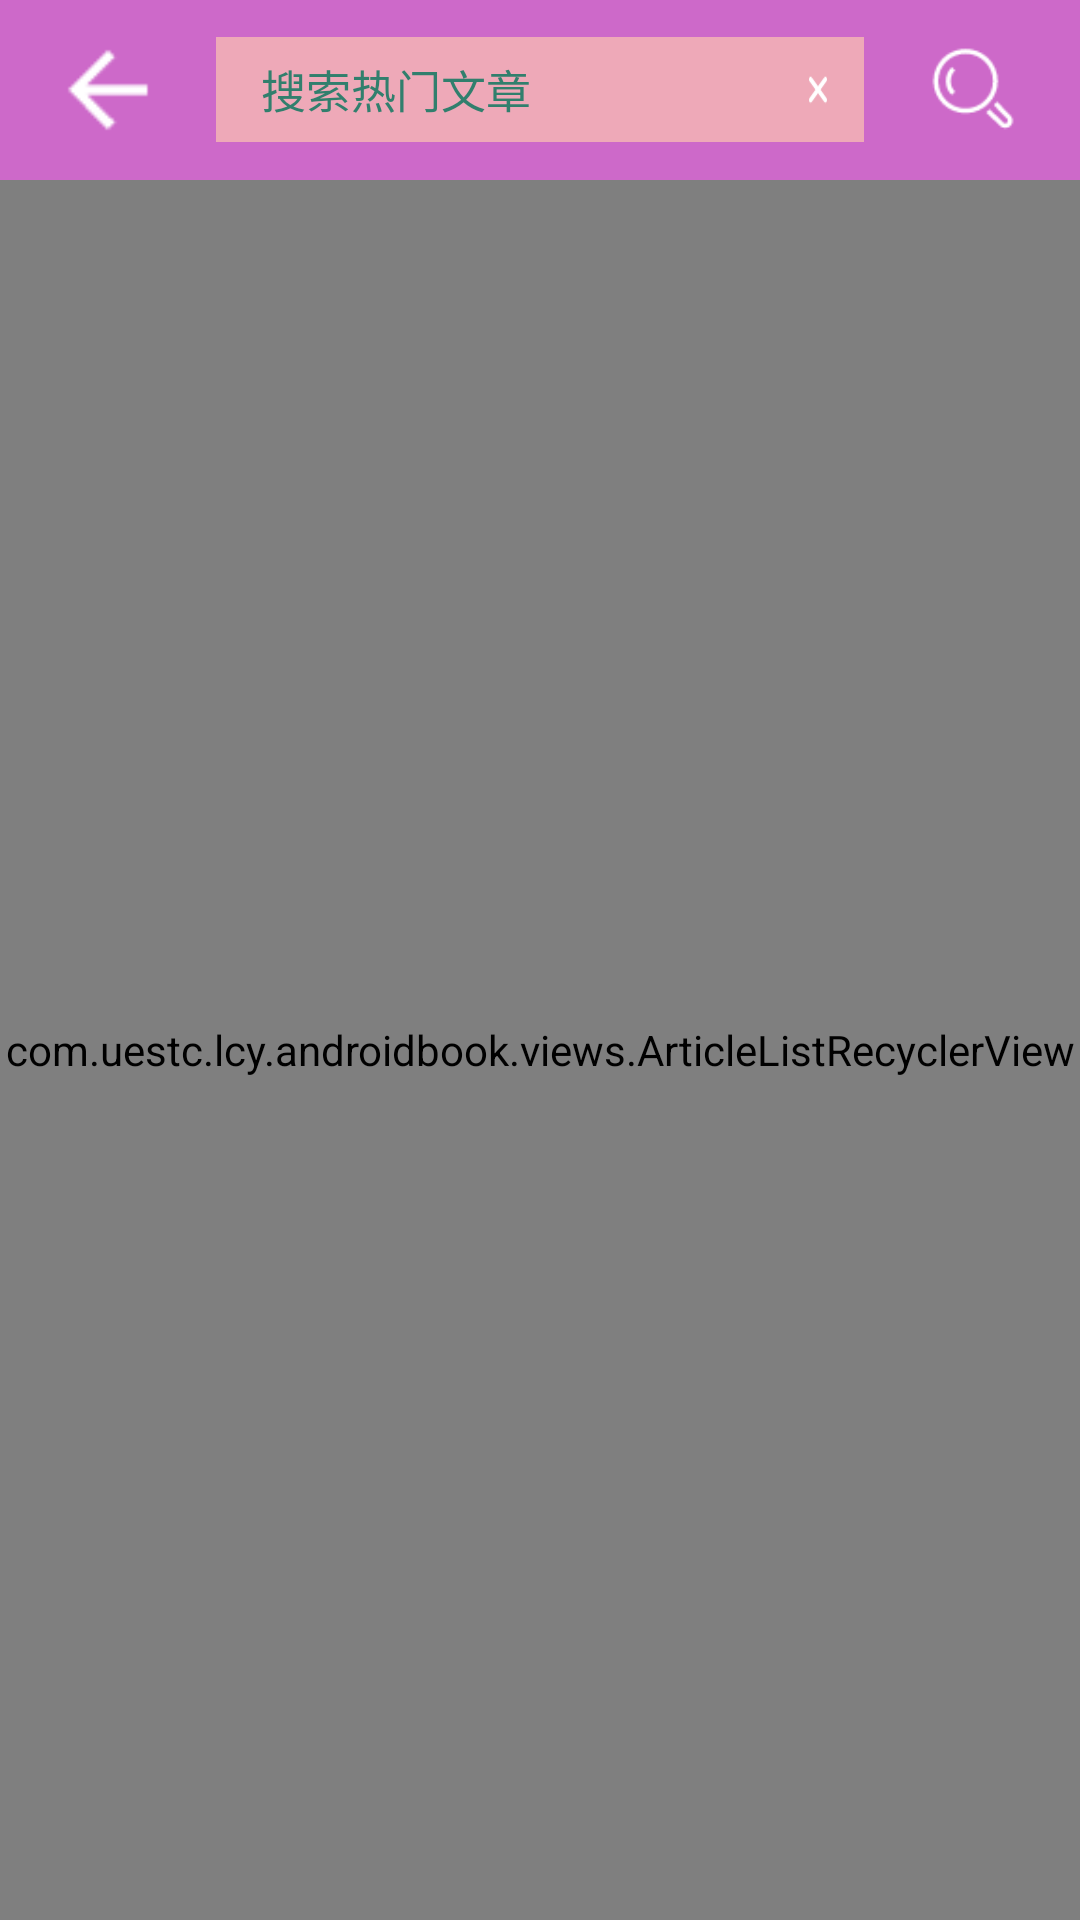

Point at icon controls on the screen. Image size 1080*1920, points as point (x, y).
close: point (818, 90)
return: point (108, 90)
topbar search: point (973, 88)
